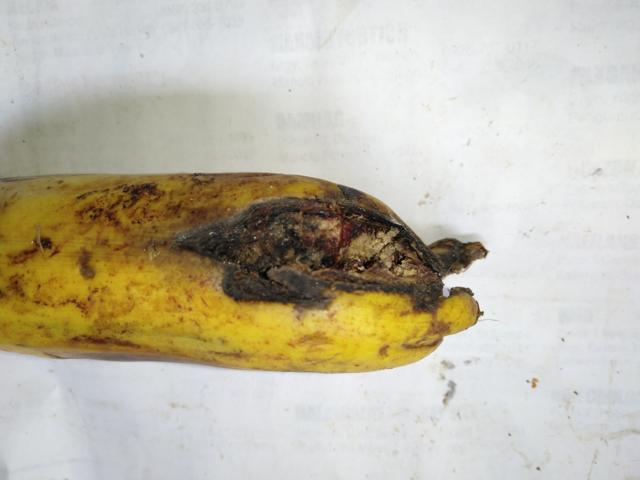ripe: (0, 155, 506, 377)
rotten: (166, 190, 495, 341)
